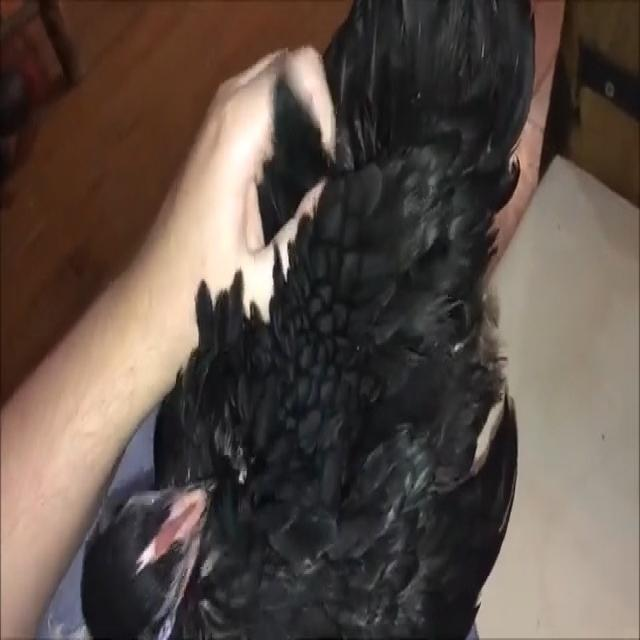self preening: (80, 0, 537, 640)
